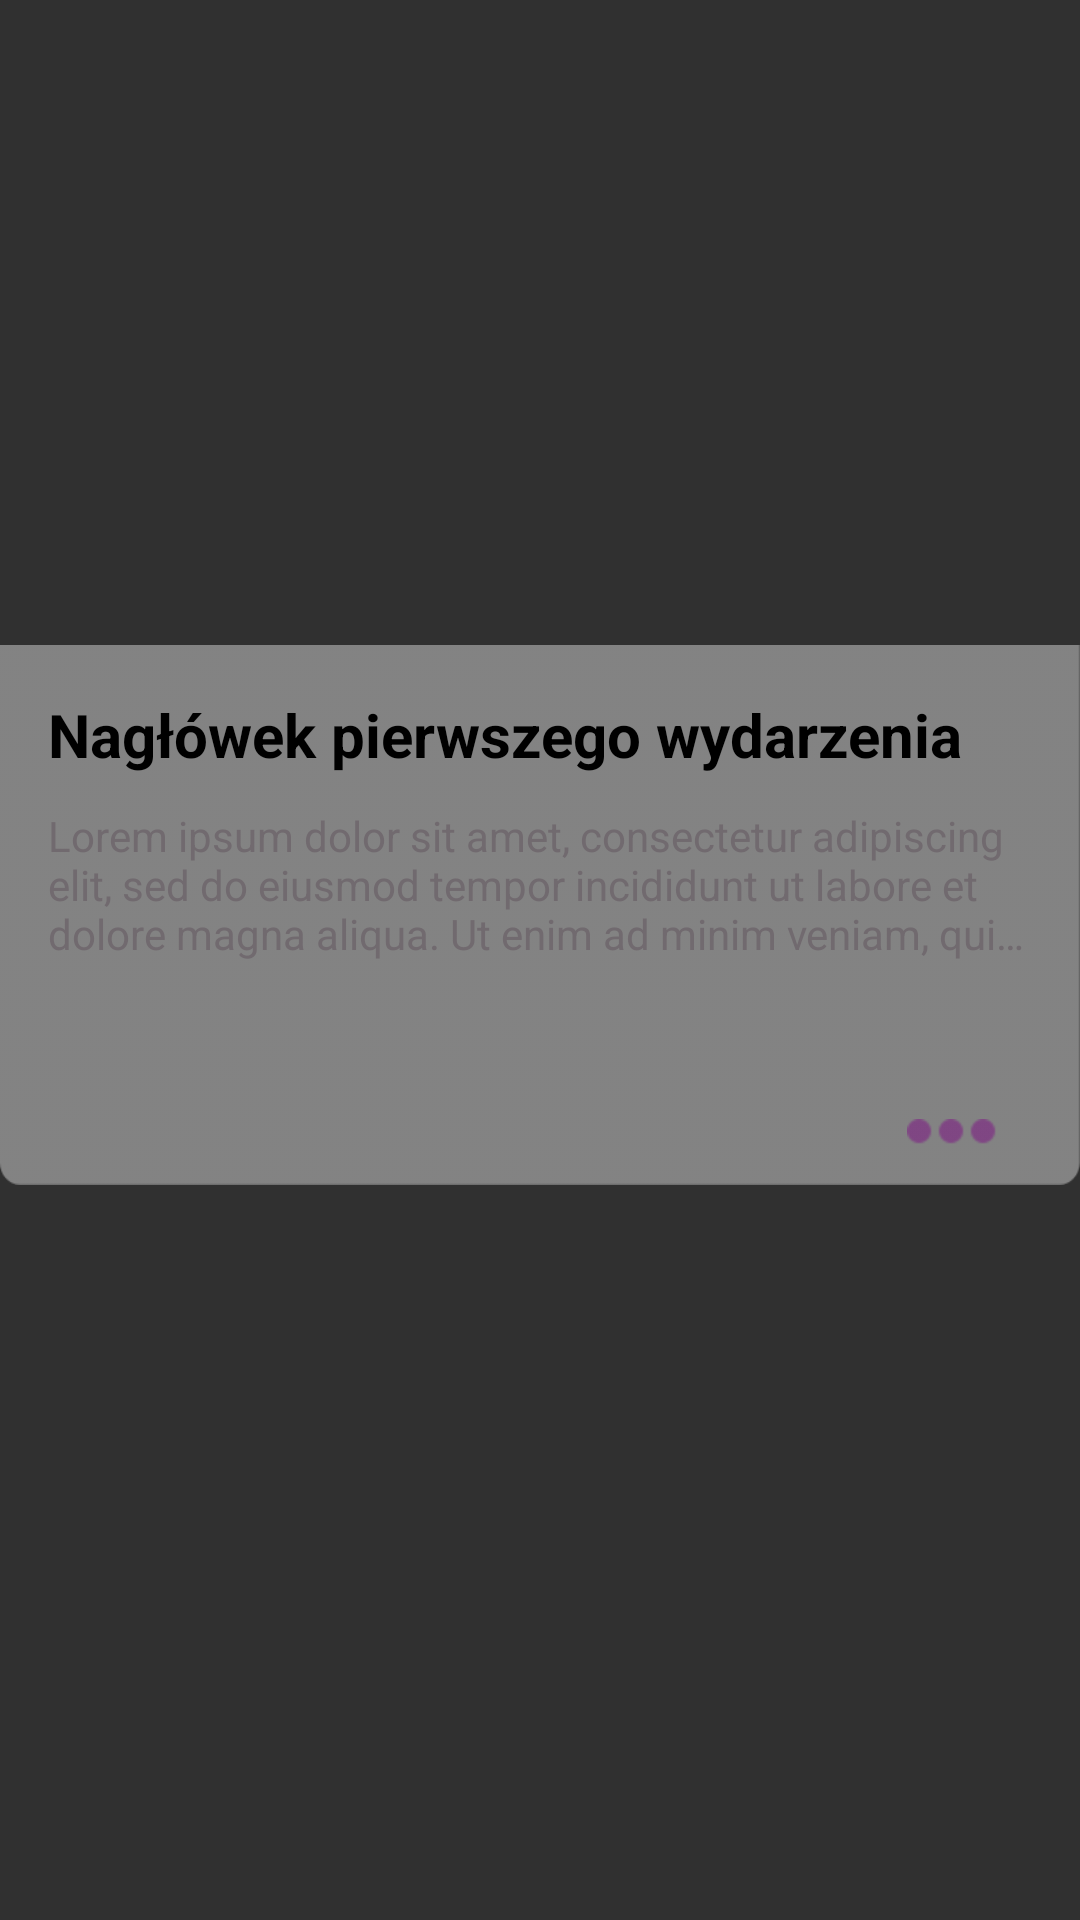

Screen size 1080x1920. Icon name, then its center in pixels as (x,y):
more: (951,1131)
